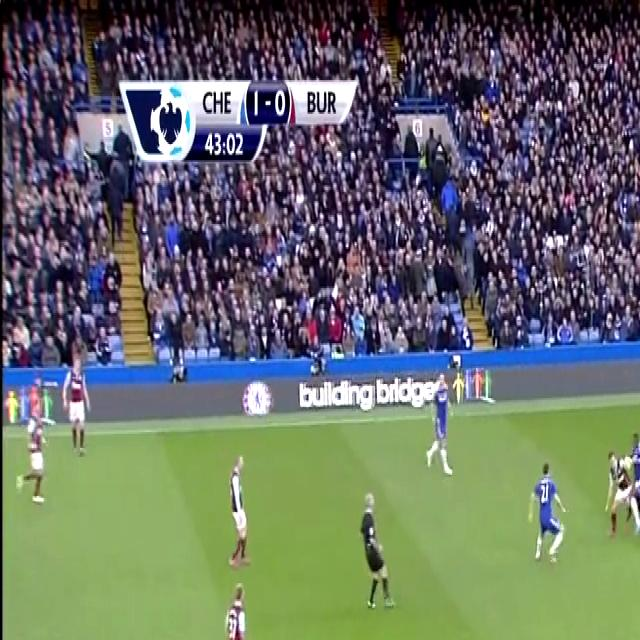referee: (354, 479, 399, 618)
soccer-player: (526, 448, 570, 569), (223, 442, 258, 568), (602, 427, 635, 546), (15, 404, 49, 513), (59, 346, 92, 458), (427, 370, 458, 481), (618, 419, 640, 538), (220, 585, 255, 640)
